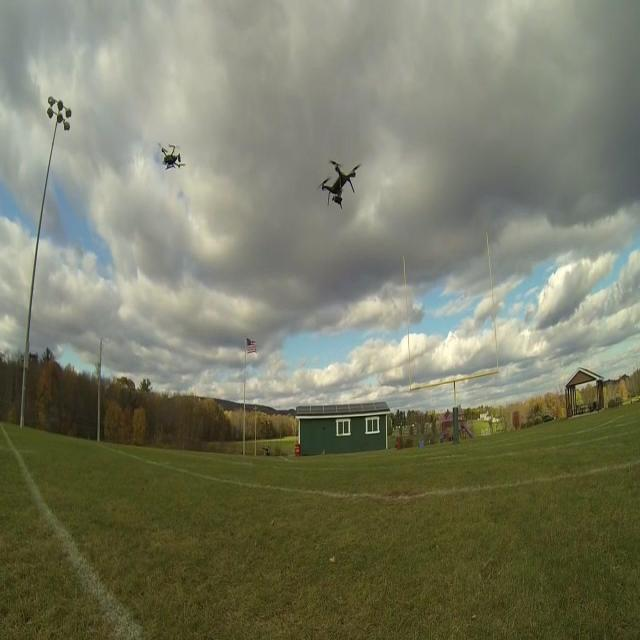drone: (317, 159, 363, 211), (159, 141, 183, 173)
